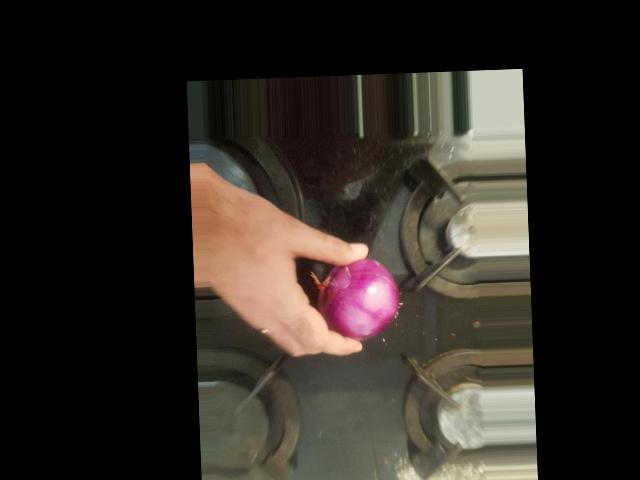onion: (360, 328, 453, 412)
